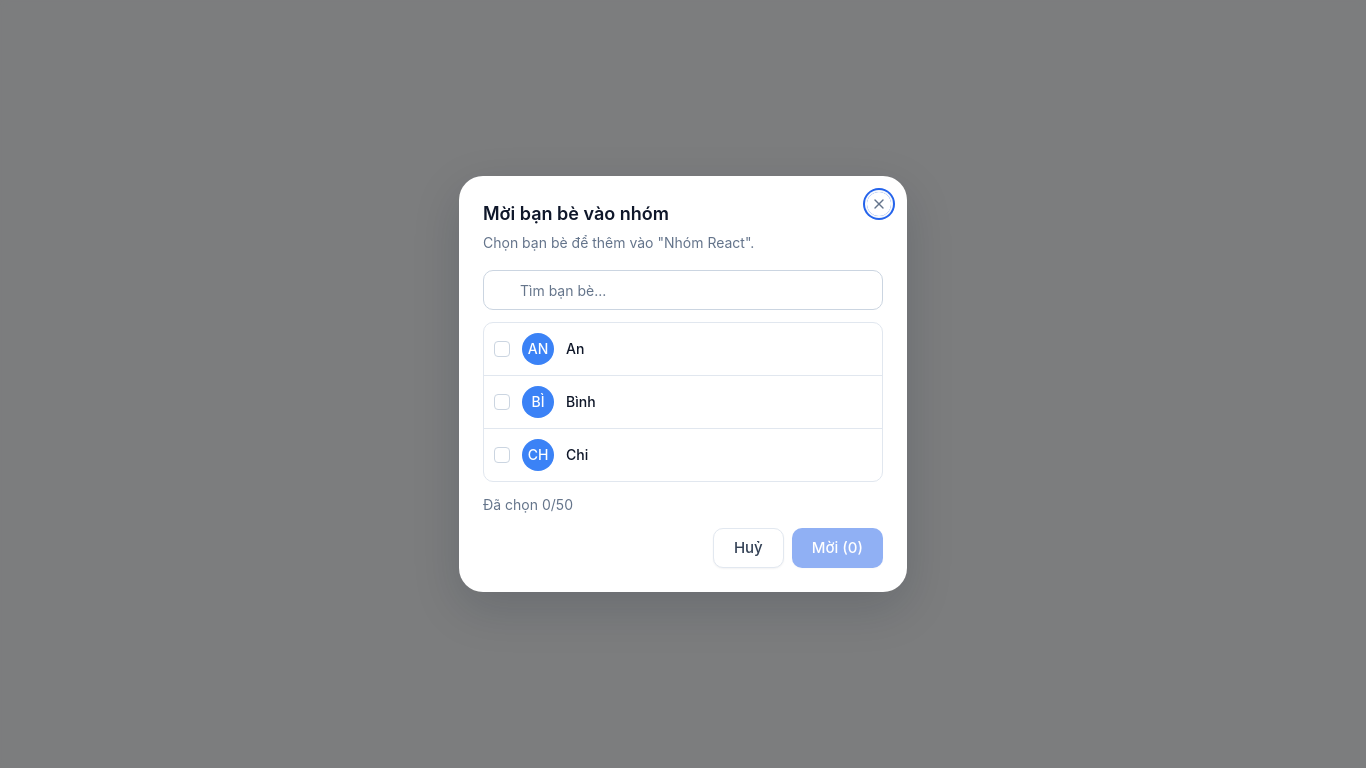
Test: InviteMembersDialog › mời thành công hết: gửi đúng id, hiện 'Đã thêm k người', toast success
Click the checkbox labelled "An": (502, 349) [494,341,510,357]
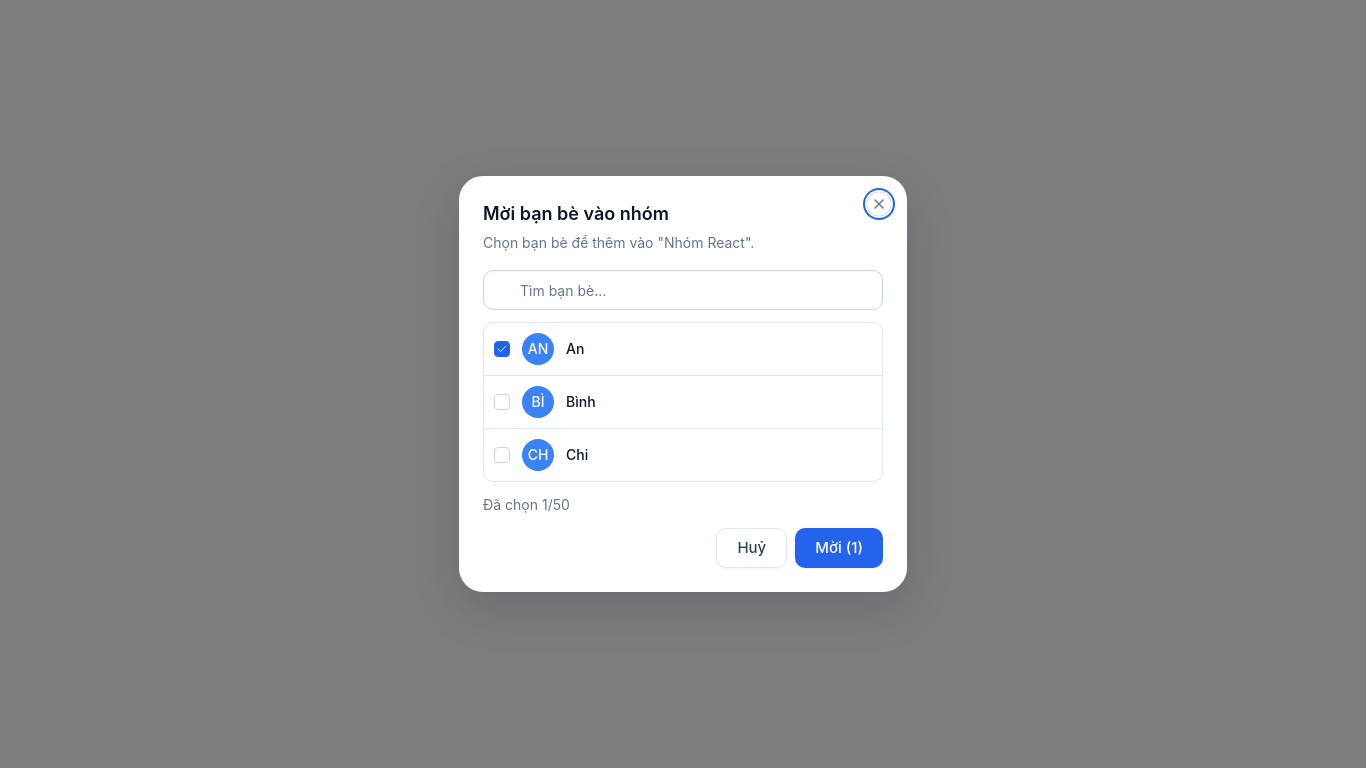
Click the checkbox labelled "Bình": (502, 402) [494,394,510,410]
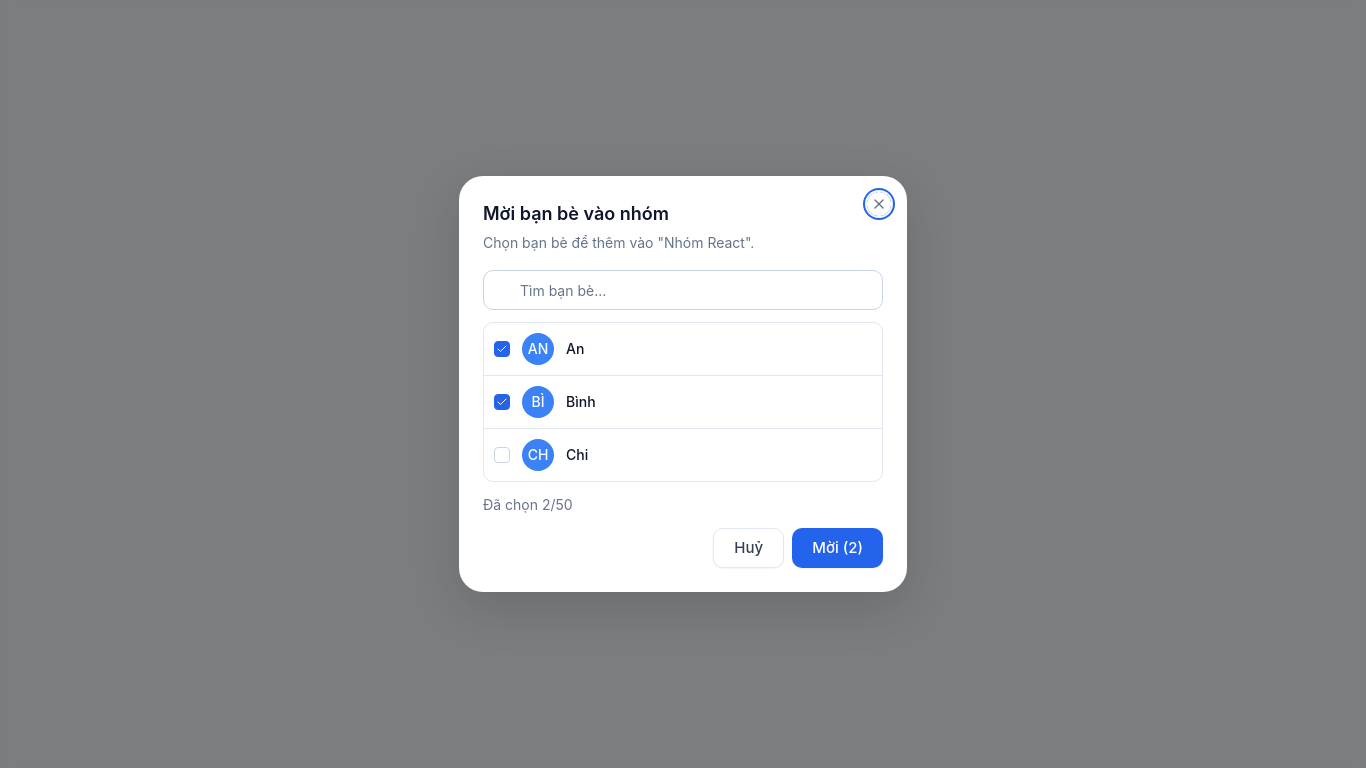
Click the button "Mời (2)": (838, 548) [792,528,883,568]
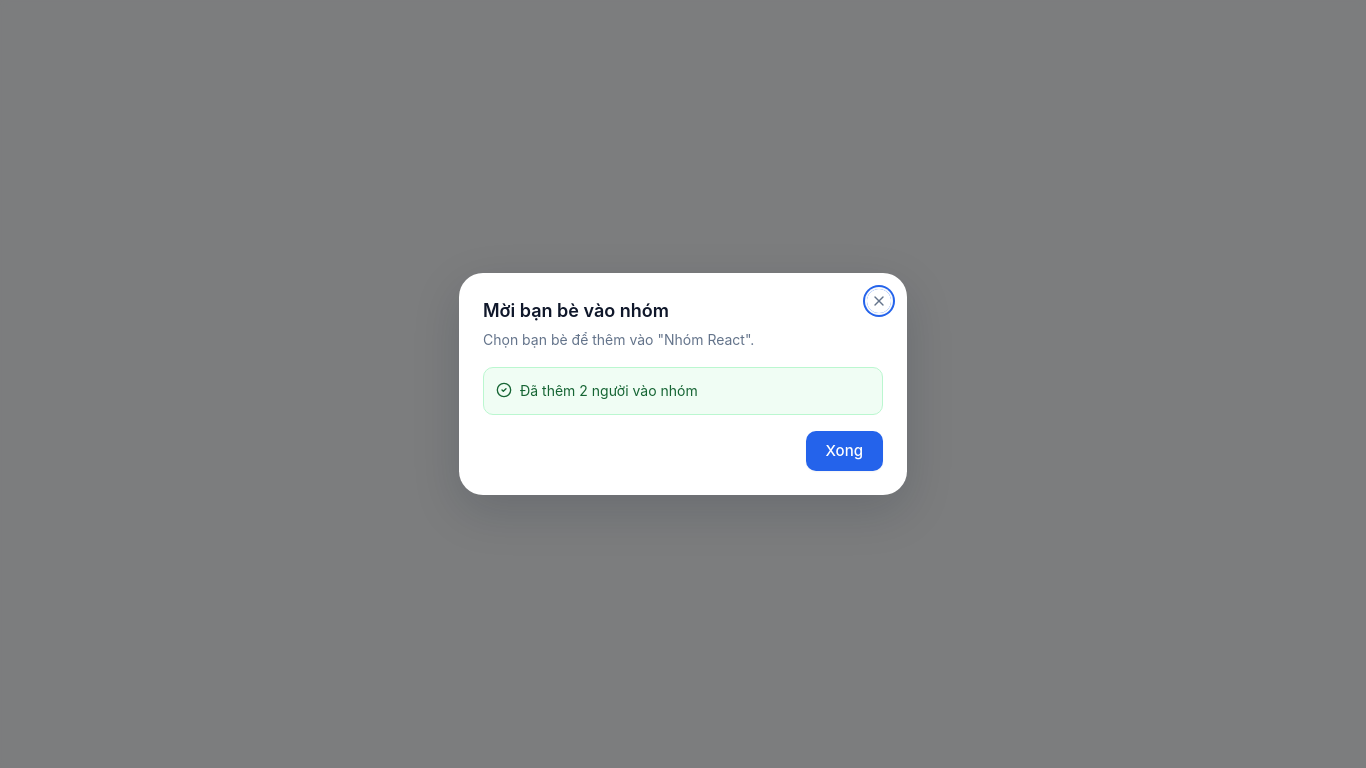
Now the text "Đã thêm 2 người vào nhóm" is shown, box [520,380,698,402]
